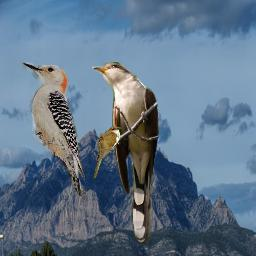Cuckoo: (92, 62, 160, 244), (93, 126, 121, 179)
Woodpecker: (21, 56, 89, 204)
